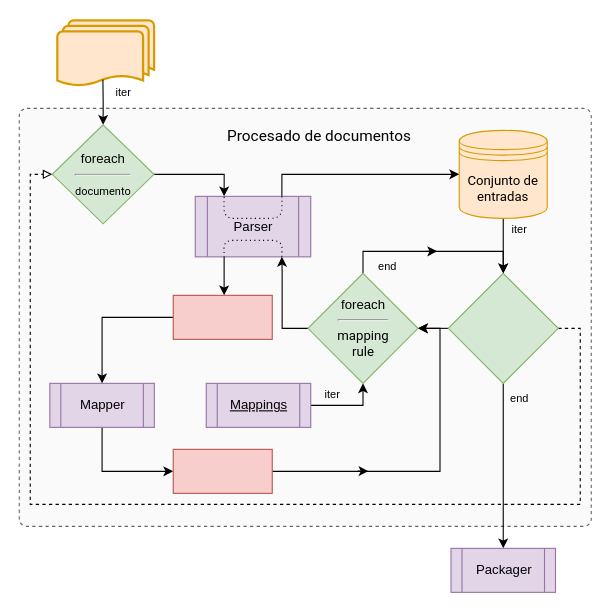
Image size: 611x612. Some labels were removed from this diagram. The shapes that lost their labels are listed below. From the top down, each one's box as (x1, y1, x2, y2) in pixels, then its label:
(56, 19, 155, 87): Conjunto de documentos
(172, 294, 272, 339): Elemento sin procesar
(447, 272, 558, 383): foreach entrada
(172, 448, 272, 493): Elemento mapeado
